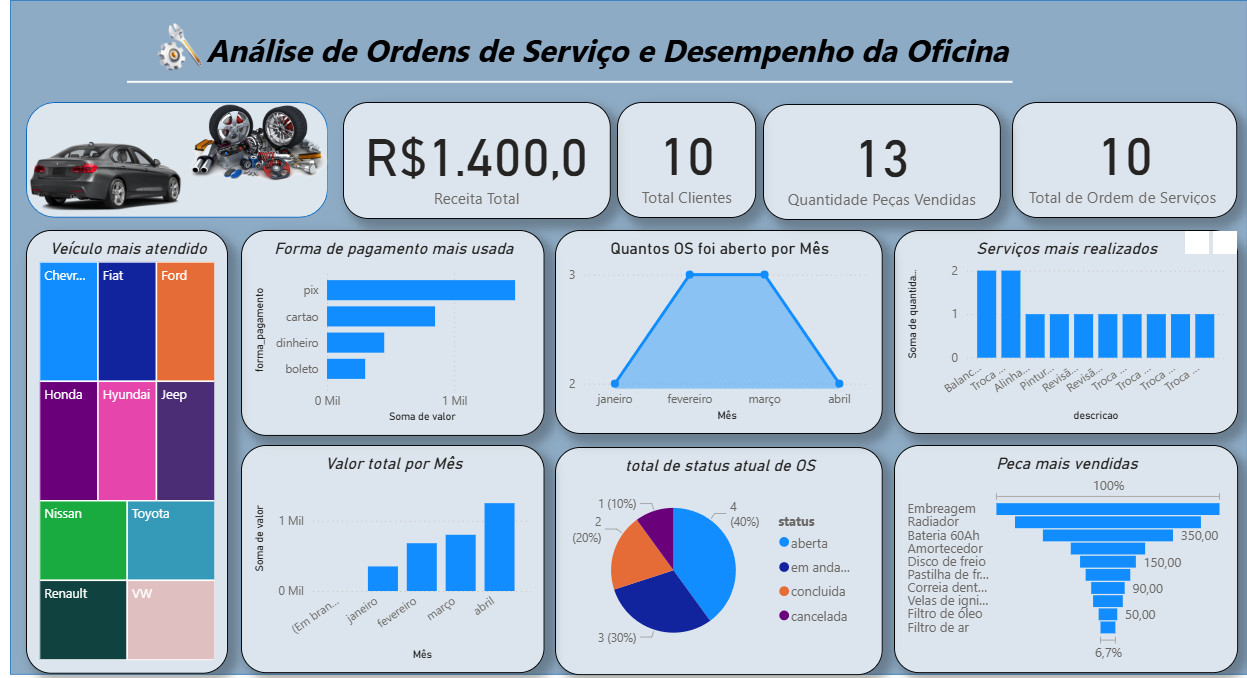

This screenshot's page, from the dashboard's own definition file:
{"tool":"powerbi","page":{"name":"Dash","canvas":[1280,720],"ordinal":0},"visuals":[{"type":"shape","box":[0,0,1280.5,698],"z":0},{"type":"pieChart","title":"total de status atual de OS","fields":{"Category":["sistema_os ordemservico.status"],"Y":["CountNonNull(sistema_os ordemservico.valor_total)"]},"box":[563.5,462.1,339.1,236.1],"z":1000},{"type":"card","fields":{"Values":["Tabela.TotalOS"]},"box":[1036.9,105.8,233.1,120.1],"z":2000},{"type":"card","fields":{"Values":["Tabela.ReceitaTotal"]},"box":[344.1,106,276.6,121.1],"z":3000},{"type":"card","fields":{"Values":["Tabela.TotalClientes"]},"box":[627.8,105.8,144.4,120.1],"z":4000},{"type":"card","fields":{"Values":["Tabela.QtdPecasVendidas"]},"box":[779.4,107.3,246,120.1],"z":5000},{"type":"clusteredBarChart","title":"Forma de pagamento mais usada","fields":{"Category":["sistema_os pagamento.forma_pagamento"],"Y":["Sum(sistema_os pagamento.valor)"]},"box":[239.4,237.7,314.2,212.8],"z":6000},{"type":"columnChart","title":"Serviços mais realizados","fields":{"Category":["sistema_os servico.descricao"],"Y":["Sum(sistema_os osservico.quantidade)"]},"box":[914.3,237.7,355.7,211.1],"z":7000},{"type":"funnel","title":"Peca mais vendidas","fields":{"Category":["sistema_os peca.descricao"],"Y":["Sum(sistema_os peca.preco)"]},"box":[914.3,460.5,355.7,236.1],"z":8000},{"type":"treemap","title":"Veículo mais atendido","fields":{"Group":["sistema_os veiculo.marca"],"Values":["CountNonNull(sistema_os osservico.quantidade)"]},"box":[16.6,237.7,209.5,458.8],"z":9000},{"type":"columnChart","title":"Valor total por Mês ","fields":{"Y":["Sum(sistema_os pagamento.valor)"],"Category":["sistema_os pagamento.data_pagamento.Variation.Hierarquia de datas.Mês"]},"box":[239.4,460.5,314.2,236.1],"z":10000},{"type":"areaChart","title":"Quantos OS foi aberto por Mês","fields":{"Category":["sistema_os ordemservico.data_abertura.Variation.Hierarquia de datas.Mês"],"Y":["CountNonNull(sistema_os ordemservico.id_os)"]},"box":[563.5,237.7,339.1,211.1],"z":11000},{"type":"shape","box":[16.5,106,312.4,119.7],"z":12000},{"type":"image","box":[9.6,112.9,178.9,139],"z":13000},{"type":"image","box":[179.4,85.4,155.5,123],"z":14000},{"type":"textbox","box":[168.3,23.4,889.8,95.1],"z":15000},{"type":"image","box":[137.6,13.2,68.8,71.7],"z":16000},{"type":"shape","box":[121.5,22,916.1,125.9],"z":16001}]}

Visuals, with their boxes in screenshot pixels (x1, y1, x2, y2):
shape: l=6, t=0, r=1241, b=669
"total de status atual de OS" pieChart: l=550, t=442, r=876, b=670
card - Tabela.TotalOS: l=1006, t=99, r=1230, b=214
card - Tabela.ReceitaTotal: l=338, t=99, r=605, b=216
card - Tabela.TotalClientes: l=612, t=99, r=751, b=214
card - Tabela.QtdPecasVendidas: l=758, t=100, r=995, b=216
"Forma de pagamento mais usada" clusteredBarChart: l=237, t=226, r=540, b=431
"Serviços mais realizados" columnChart: l=888, t=226, r=1230, b=429
"Peca mais vendidas" funnel: l=888, t=441, r=1230, b=668
"Veículo mais atendido" treemap: l=22, t=226, r=224, b=668
"Valor total por Mês " columnChart: l=237, t=441, r=540, b=668
"Quantos OS foi aberto por Mês" areaChart: l=550, t=226, r=876, b=429
shape: l=22, t=99, r=323, b=214
image: l=16, t=106, r=188, b=240
image: l=179, t=79, r=329, b=198
textbox: l=169, t=19, r=1026, b=111
image: l=139, t=9, r=205, b=79
shape: l=124, t=18, r=1007, b=139
